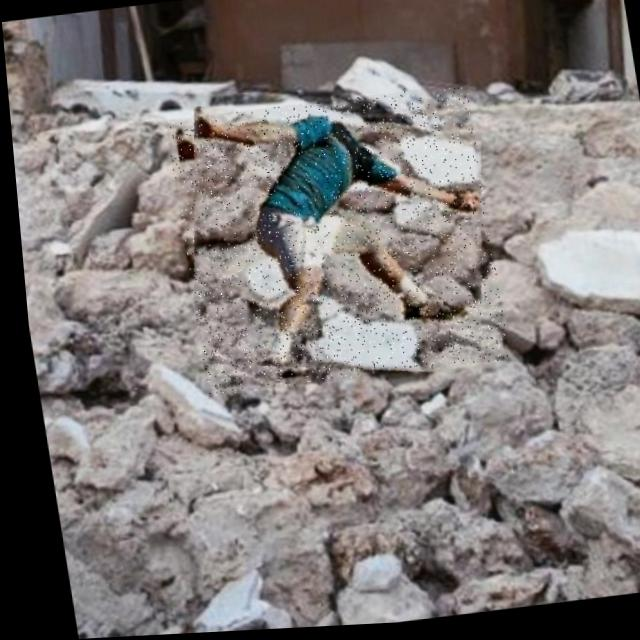Person in Rubble: (160, 87, 504, 398)
